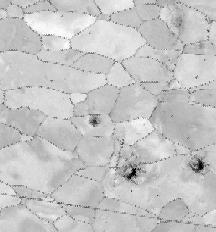good_void: (113, 152, 148, 187), (170, 5, 191, 39), (185, 151, 212, 177), (85, 115, 104, 131), (189, 71, 205, 81), (183, 133, 196, 143), (167, 110, 178, 121), (152, 191, 162, 199), (46, 77, 57, 84), (128, 188, 135, 193)
